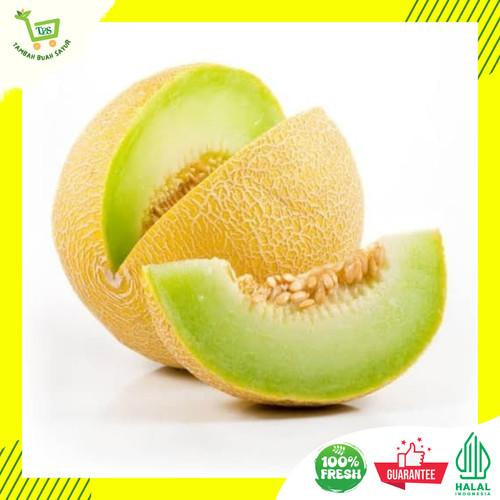Melon Unripe: (53, 67, 362, 365), (145, 235, 444, 385)
